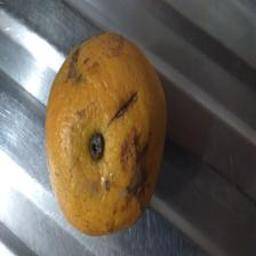Orange Semirotten: (27, 38, 189, 254)
